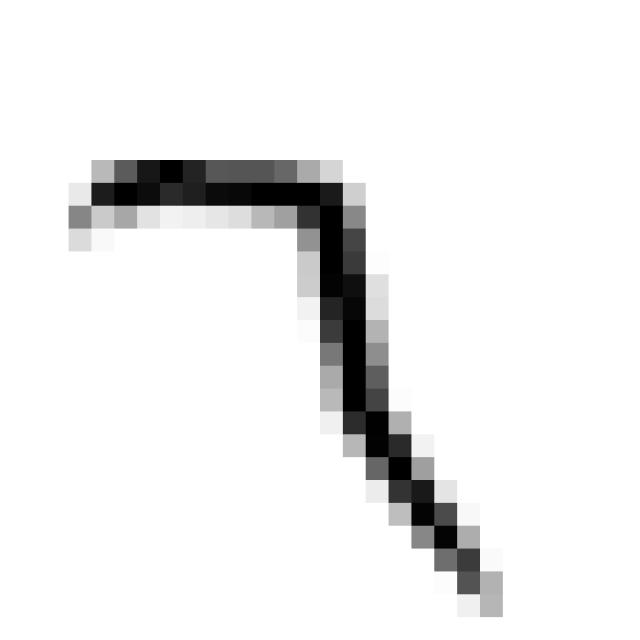6 -six-: (52, 133, 513, 623)
